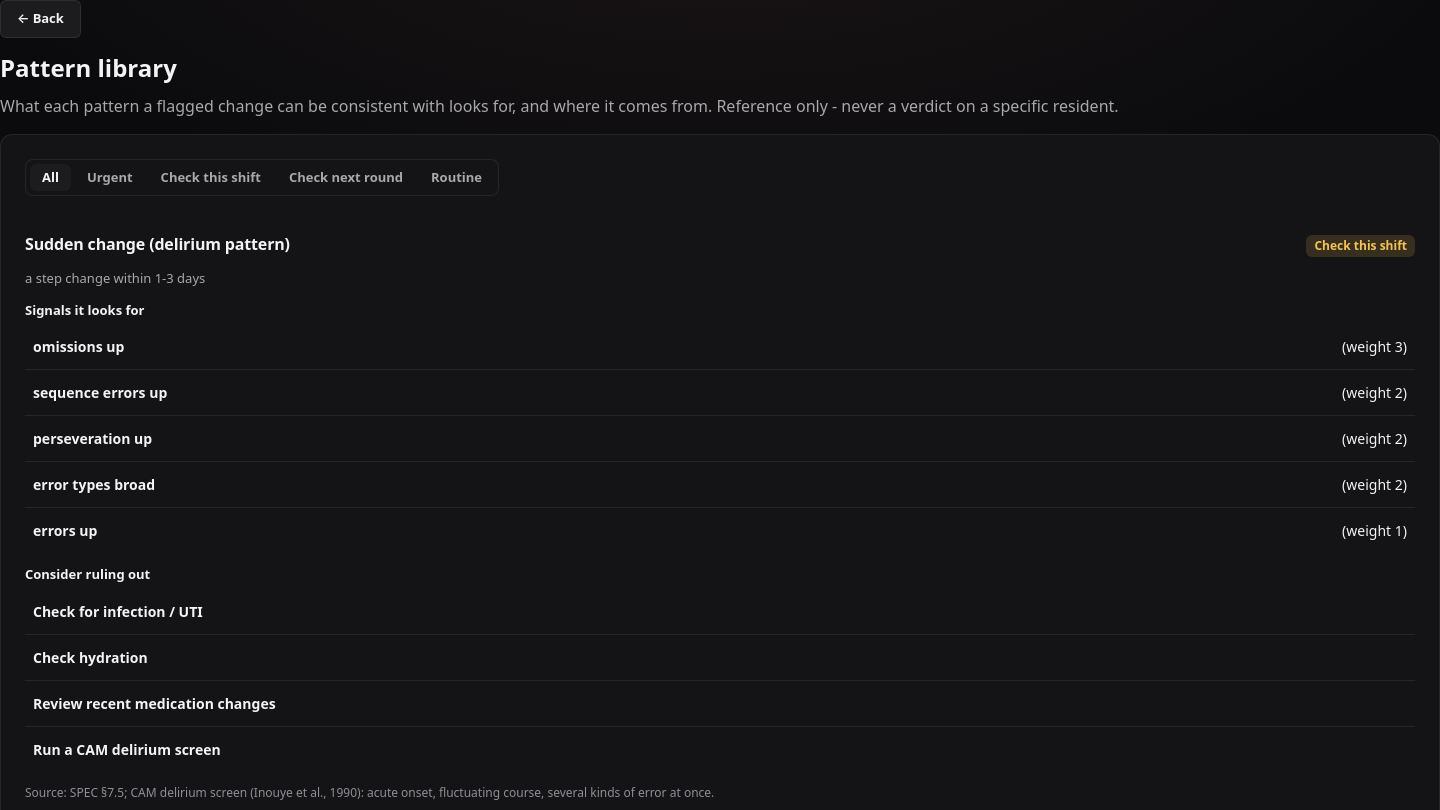
Test: PatternLibrary › filters the list to one urgency level when its button is picked
The width and height of the screenshot is (1440, 810).
Expected: the heading "Sudden change (delirium pattern)" is shown, 25,232 -> 290,256
Click the button "Urgent" at (110, 177), box 75,164 -> 145,191
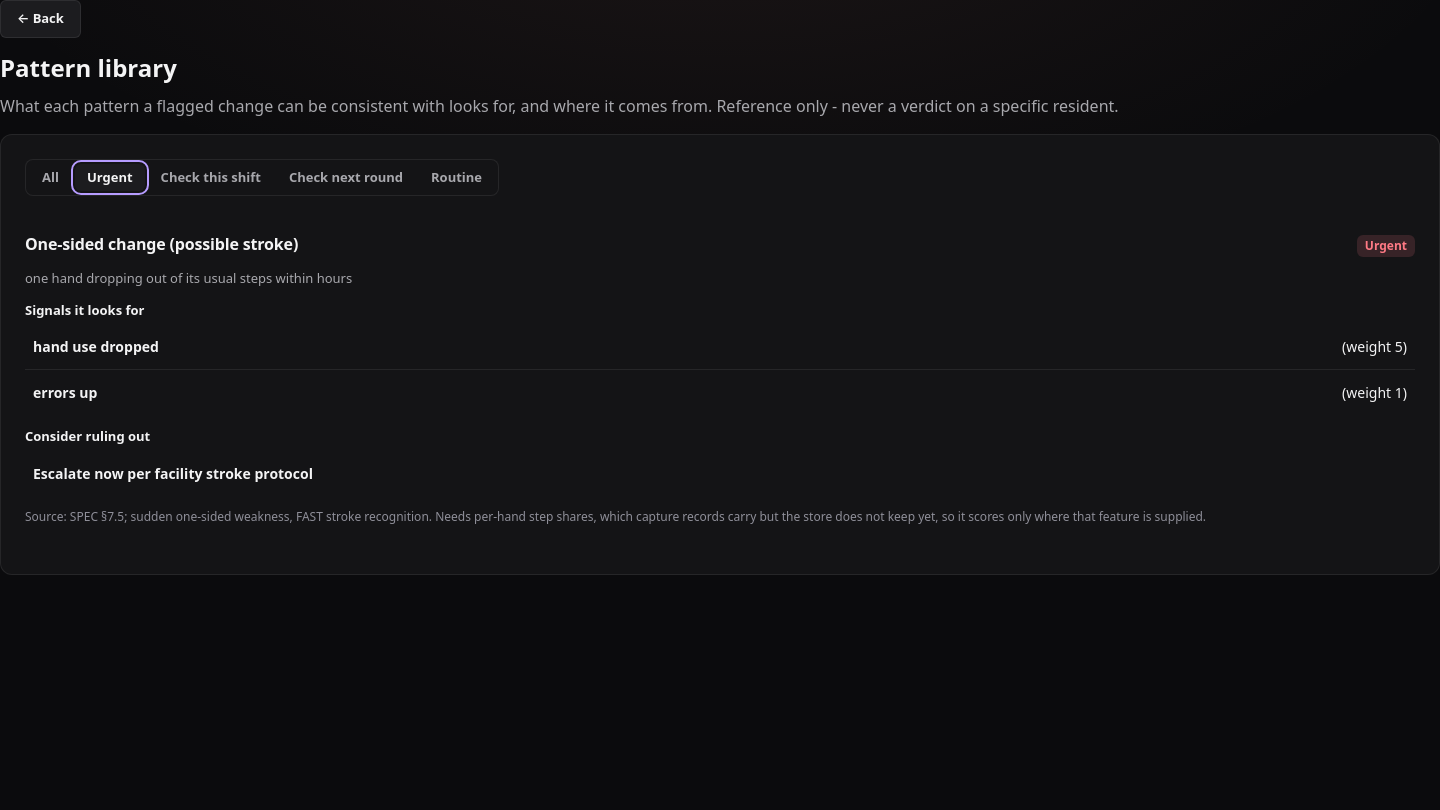
Expected: the heading "One-sided change (possible stroke)" is shown, 25,232 -> 298,256
Result: the heading "Sudden change (delirium pattern)" is gone
